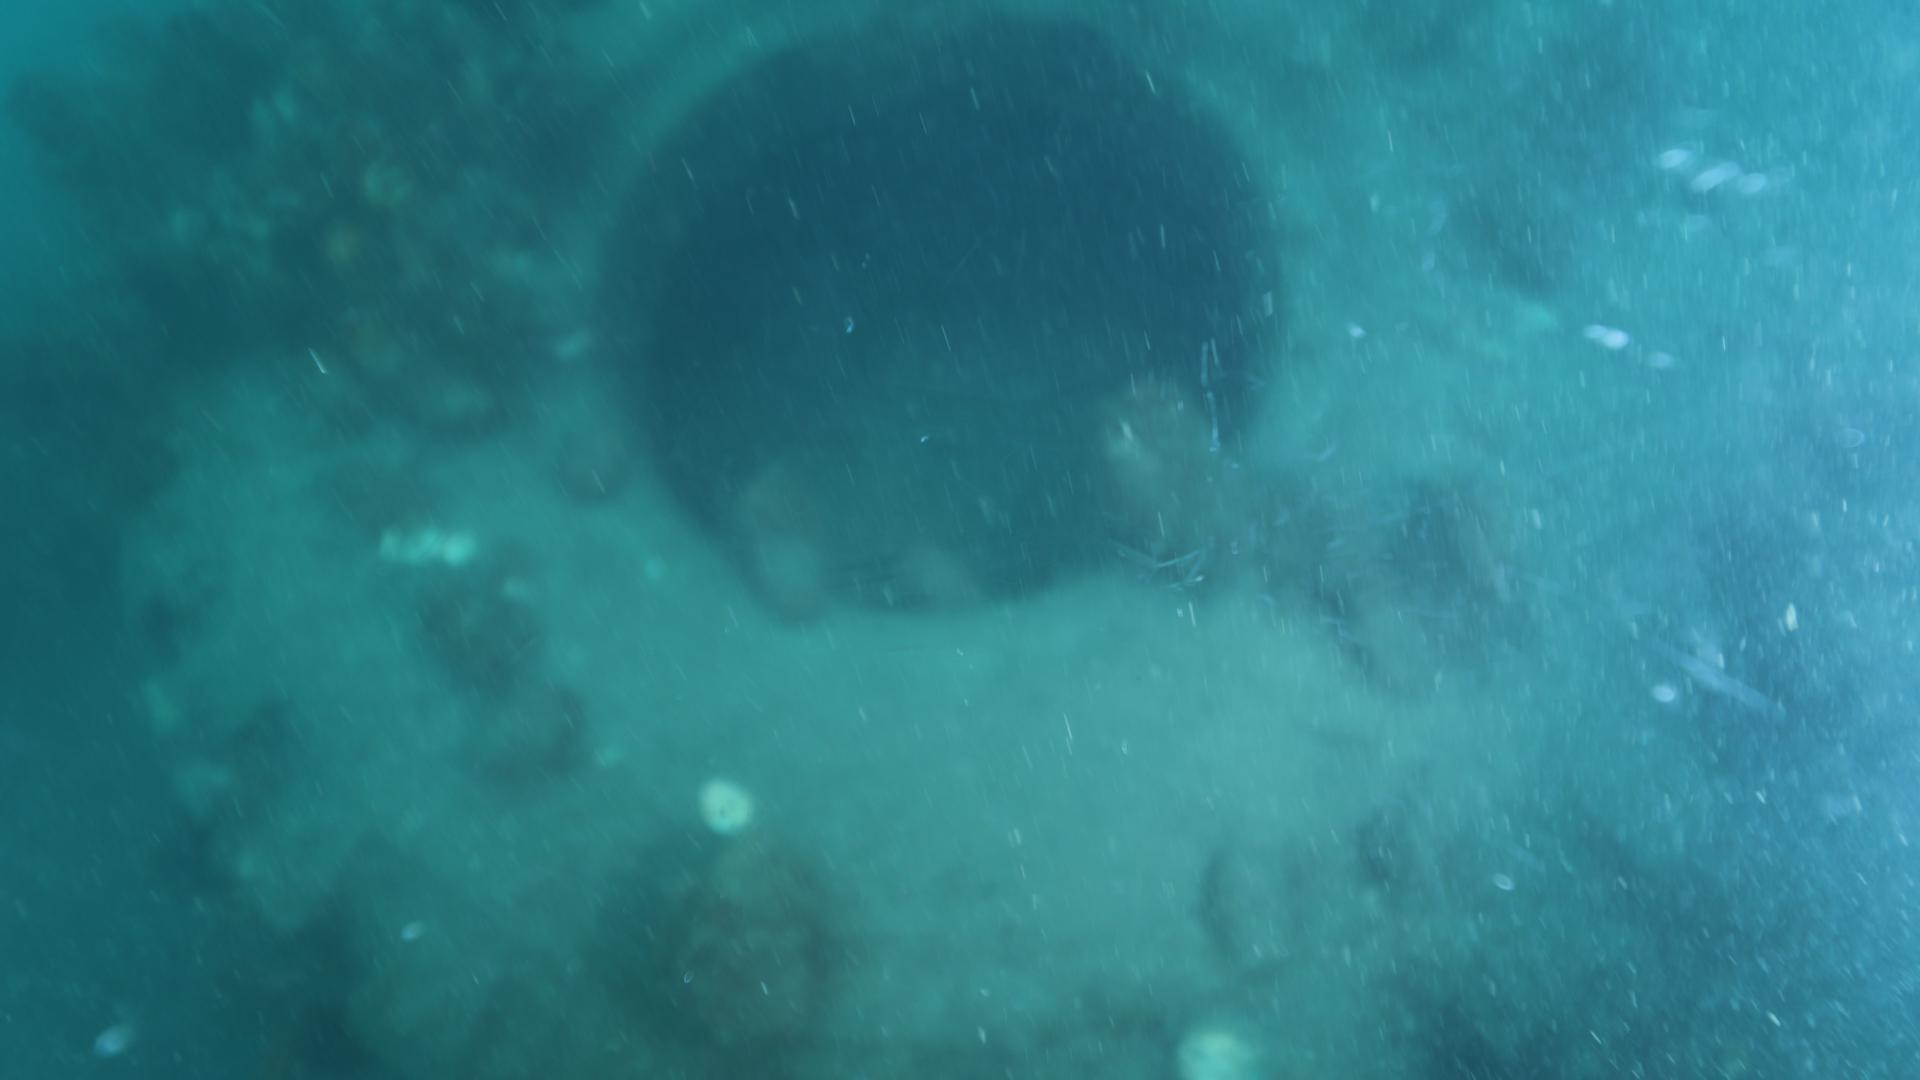tire: (119, 3, 1791, 1079)
